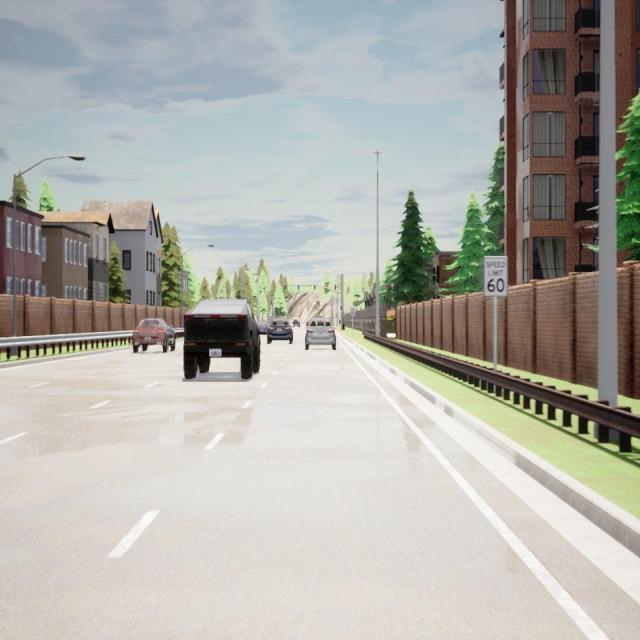Traffic_Signs: (485, 258, 506, 295), (351, 308, 355, 316)
Vehicle: (183, 299, 260, 380), (133, 318, 176, 353), (305, 317, 336, 350), (267, 318, 293, 344), (259, 320, 267, 335), (294, 319, 300, 328)
traffic_light: (284, 286, 286, 292), (314, 286, 316, 292), (340, 306, 342, 312), (298, 286, 299, 292)
